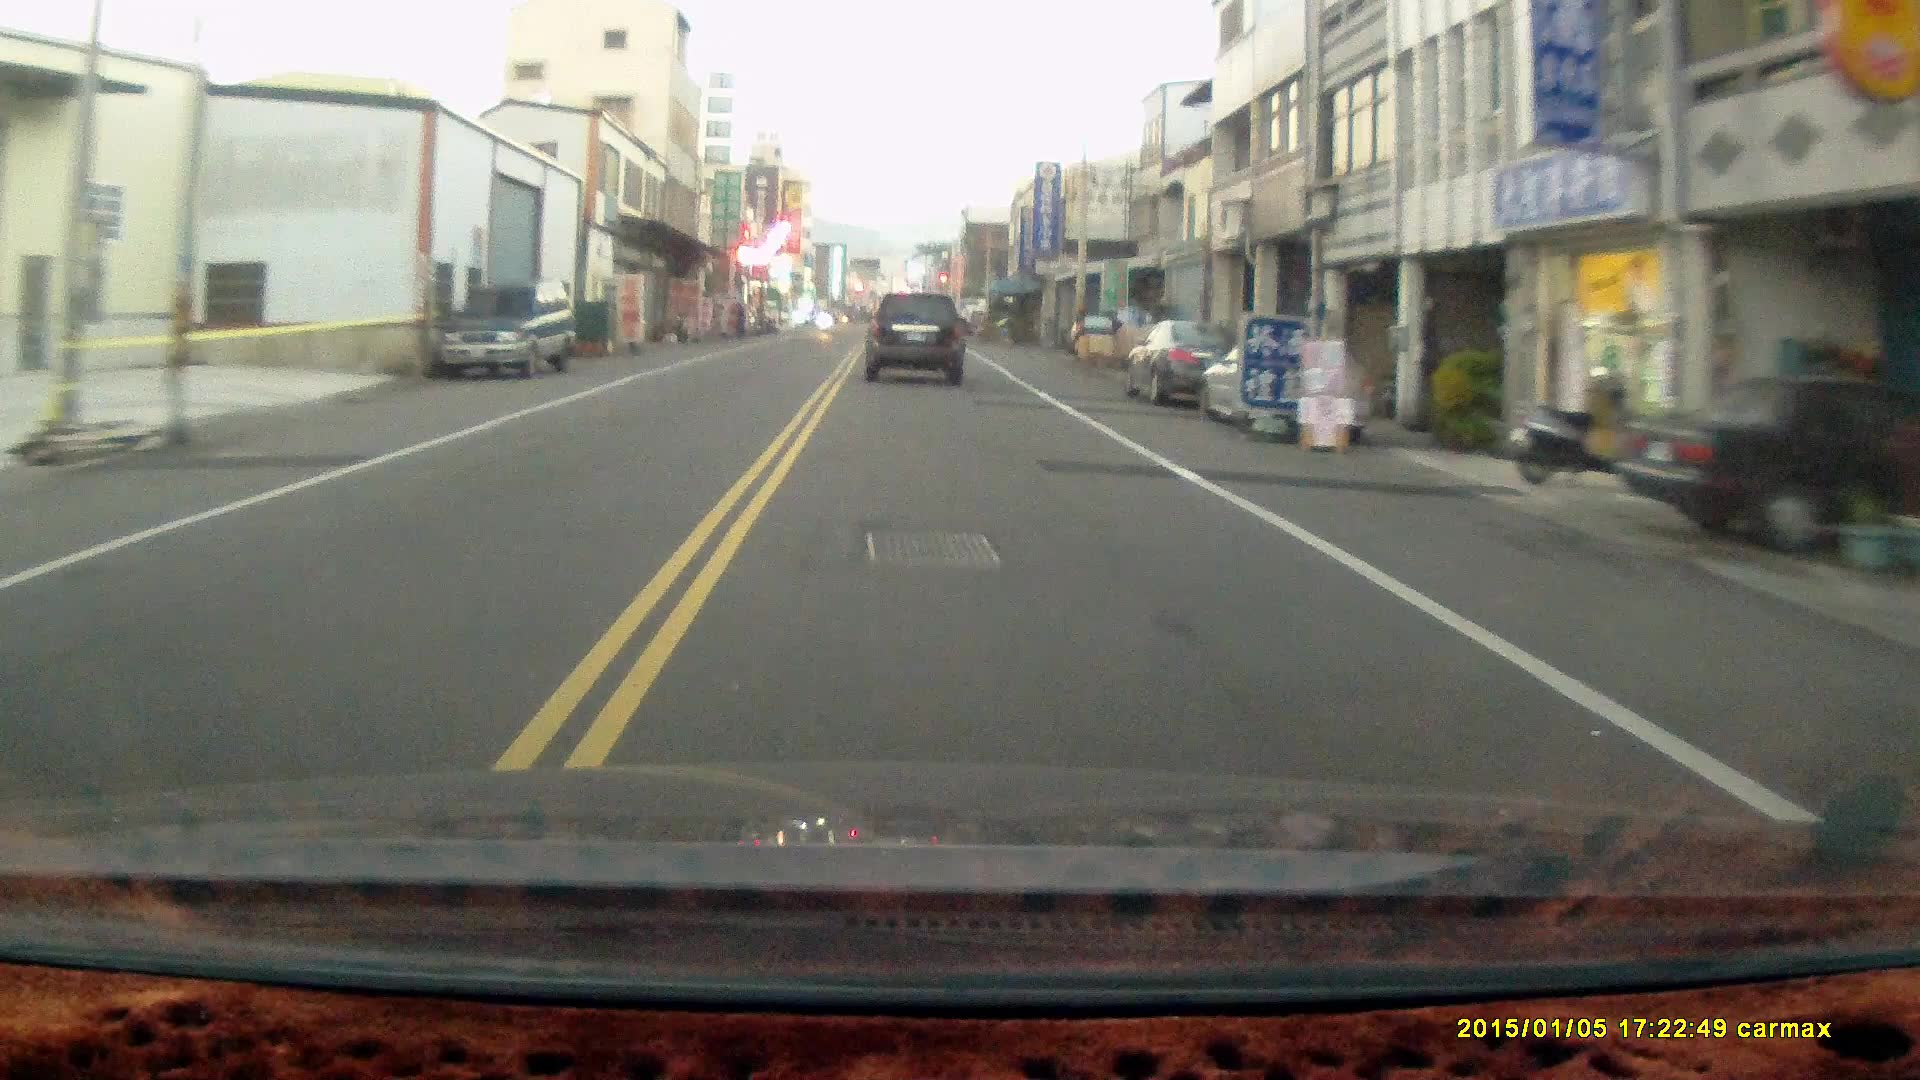vehicle: (1609, 372, 1920, 554), (1199, 338, 1381, 444), (438, 280, 578, 382), (1124, 316, 1254, 407), (864, 291, 969, 386)
